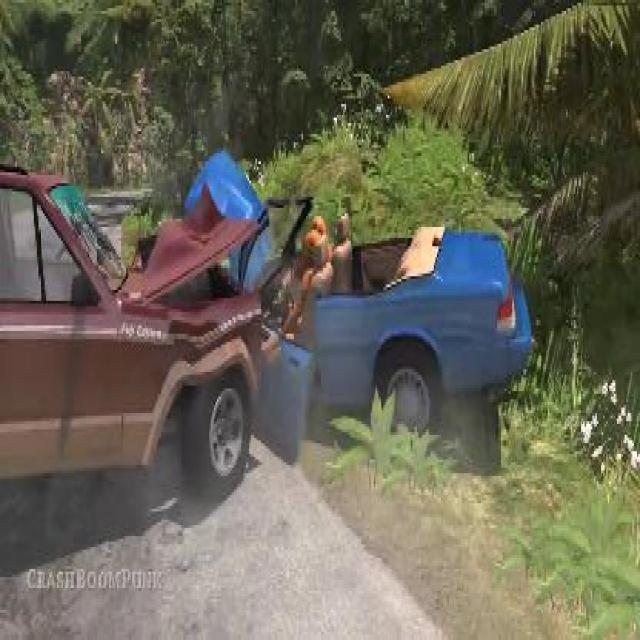accident: (0, 120, 537, 498)
